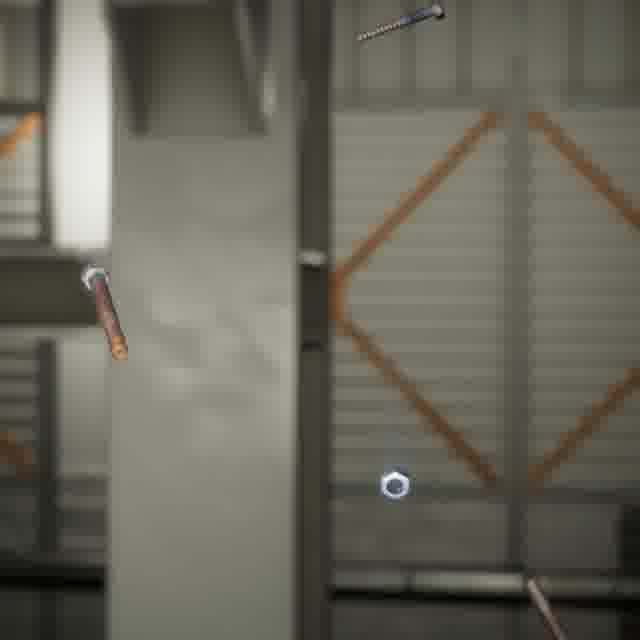bolt: (77, 259, 132, 364), (348, 0, 449, 47), (518, 572, 574, 640)
nut: (376, 461, 414, 505)
